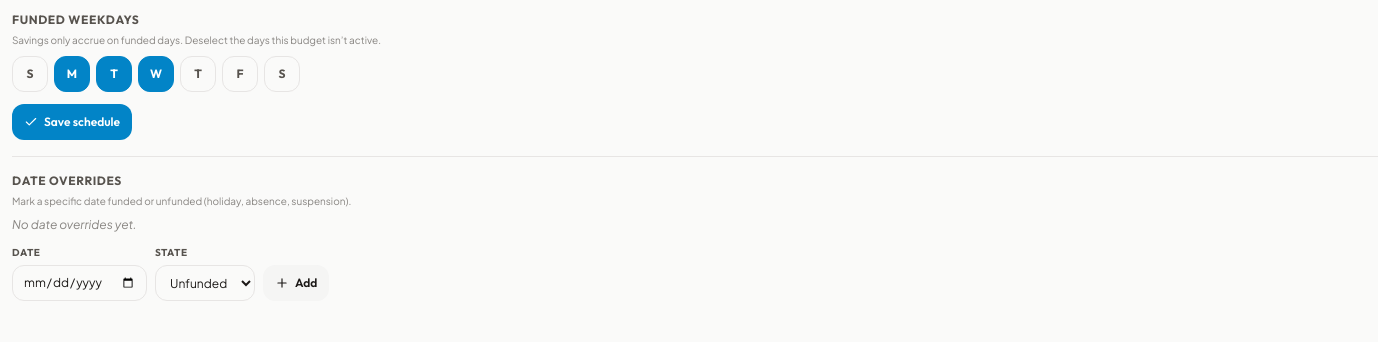
Scenario: FundedDayConfig › adds a date override via PUT (Req 2.2)
Type "2026-12-25" into the date field labelled "Date".
click(80, 283); type("2026-12-25")  # box [12,265,147,301]
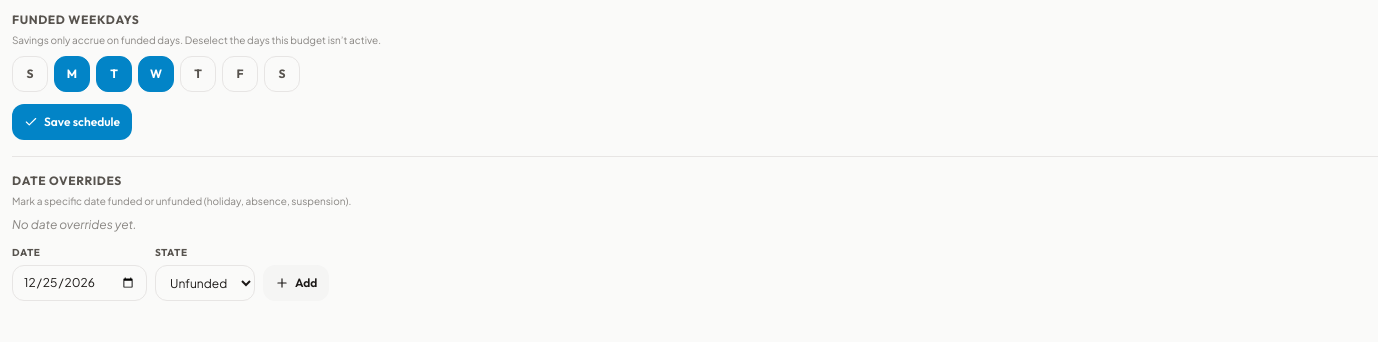
Click the button "Add".
click(296, 283)  # box [263,265,329,301]
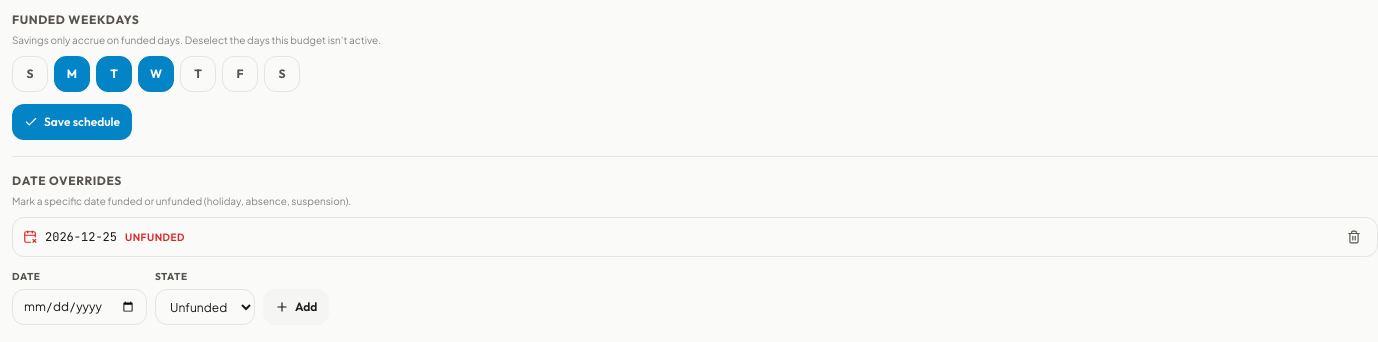
Now the text "2026-12-25" is shown, box [45,229,117,245]
